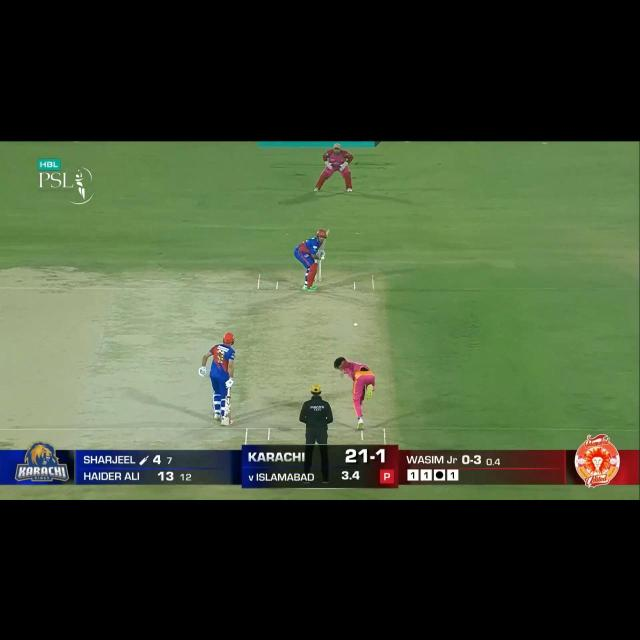bat: (223, 398, 232, 425), (321, 230, 329, 249)
toe: (221, 420, 231, 425), (324, 229, 330, 235)
